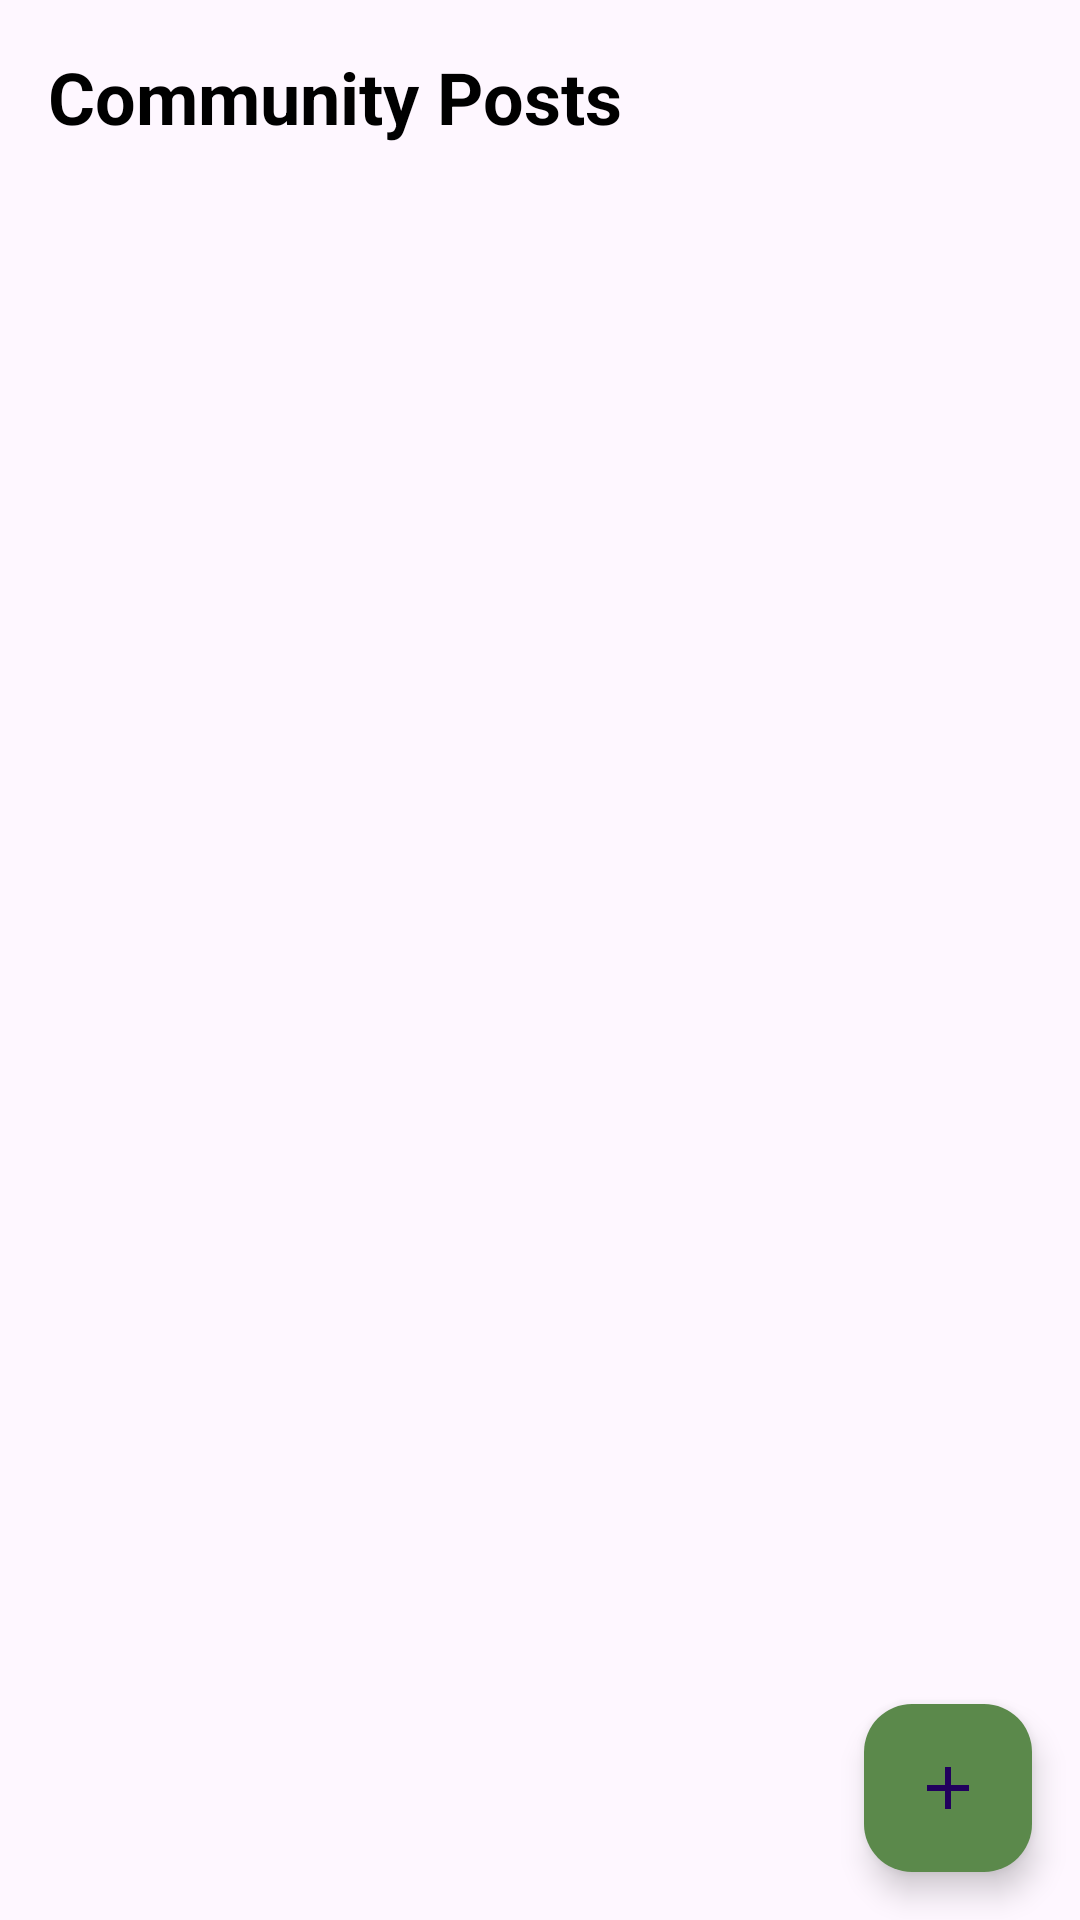

Where icons sit on this 1080 x 1920 app screen, as (x1, y1, x2, y2):
Add Post: (864, 1704, 1032, 1872)
